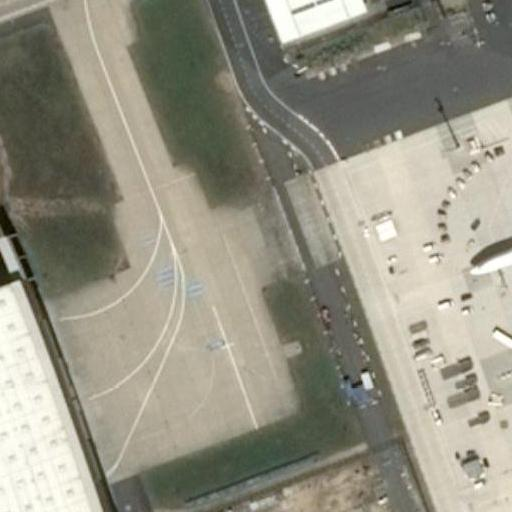Aircraft: (472, 142, 512, 314)
